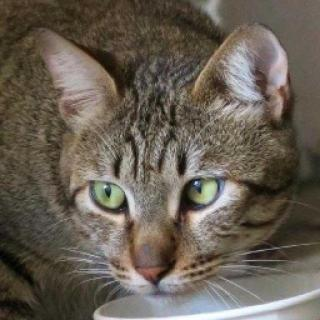cat: (28, 25, 289, 304)
nose: (122, 225, 191, 290)
